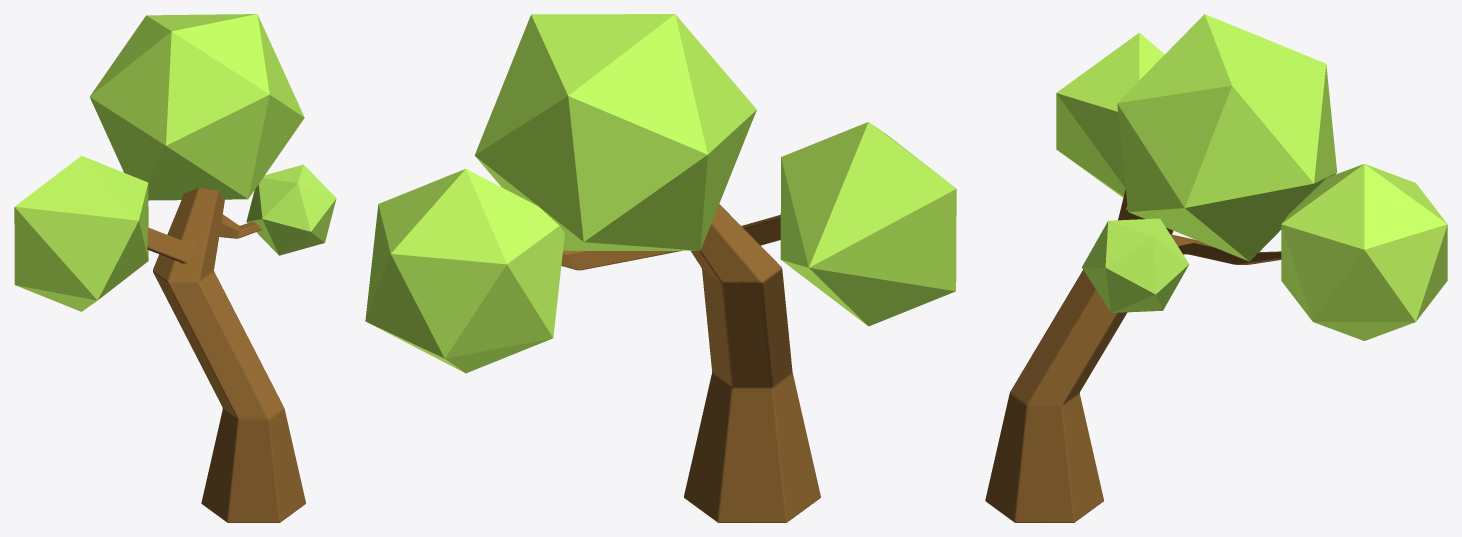
Rendered from TreeBig.fbx.
3 views of the same model, side by side, from view 1: azimuth 30°, elevation 25°; view 2: azimuth 150°, elevation 25°; view 3: azimuth 270°, elevation 25° (orthographic). The views are drawn at different scales.
Parts seen in each view (by area): view 1: Icosphere.006, Cylinder.001, Icosphere.007, Icosphere.003; view 2: Icosphere.006, Icosphere.005, Cylinder.001, Icosphere.007; view 3: Icosphere.006, Icosphere.005, Cylinder.001, Icosphere.007, Icosphere.003.
Part boxes in pixels (x1,y1,x2,y2): Icosphere.006: [90, 14, 304, 200]; Cylinder.001: [147, 188, 305, 522]; Icosphere.007: [14, 155, 148, 311]; Icosphere.003: [246, 164, 336, 255]; Icosphere.006: [474, 14, 756, 251]; Icosphere.005: [365, 169, 564, 373]; Cylinder.001: [561, 204, 820, 522]; Icosphere.007: [780, 122, 956, 326]; Icosphere.006: [1117, 14, 1337, 261]; Icosphere.005: [1281, 164, 1447, 340]; Cylinder.001: [985, 189, 1281, 522]; Icosphere.007: [1056, 32, 1164, 197]; Icosphere.003: [1082, 218, 1189, 312].
Size of the model in its own units: 590 by 699 by 608.
